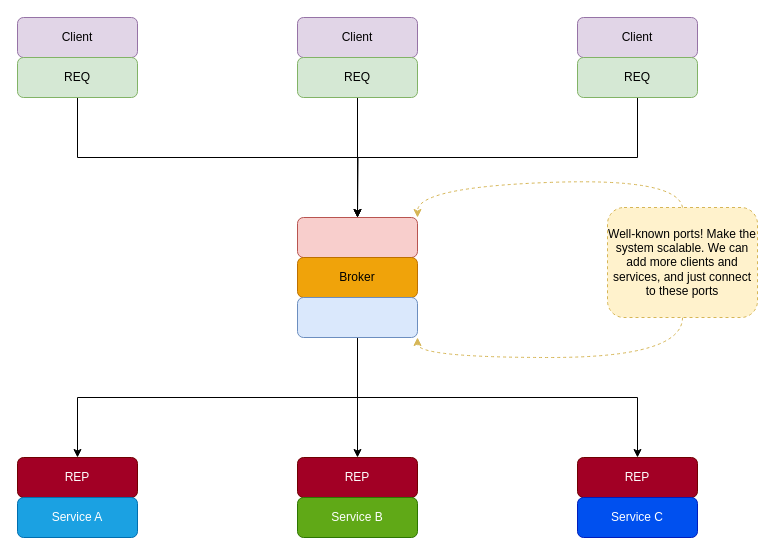
Image size: 775x555. Some labels were removed from this diagram. The shapes that lost their labels are listed below. From the top down, each one's centre as x and y in pixels, then its label:
At pixel 357 237: "ROUTER".
At pixel 357 317: "DEALER".
